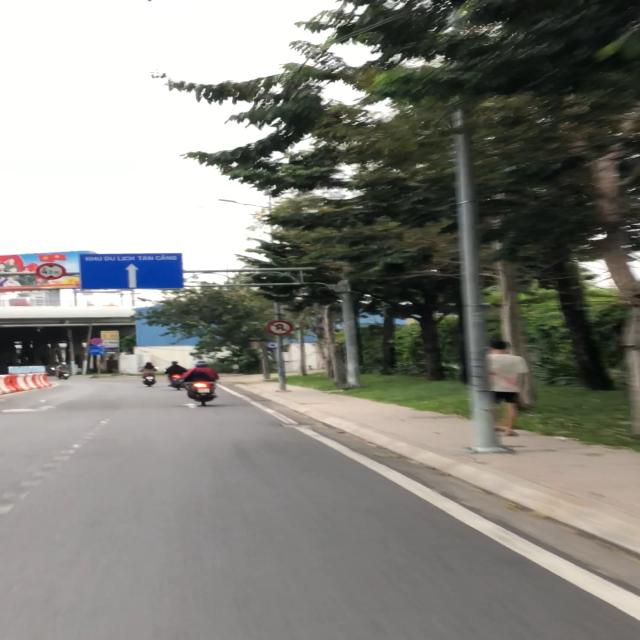Bien bao cam quay dau xe: (266, 318, 296, 336)
Bien bao han che chieu cao: (34, 261, 68, 281)
